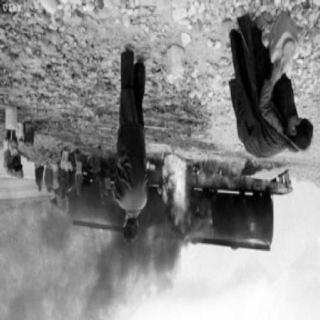Smoke: (73, 229, 174, 319), (4, 225, 74, 318)
other: (264, 9, 302, 82), (163, 45, 193, 93), (1, 102, 23, 160)
